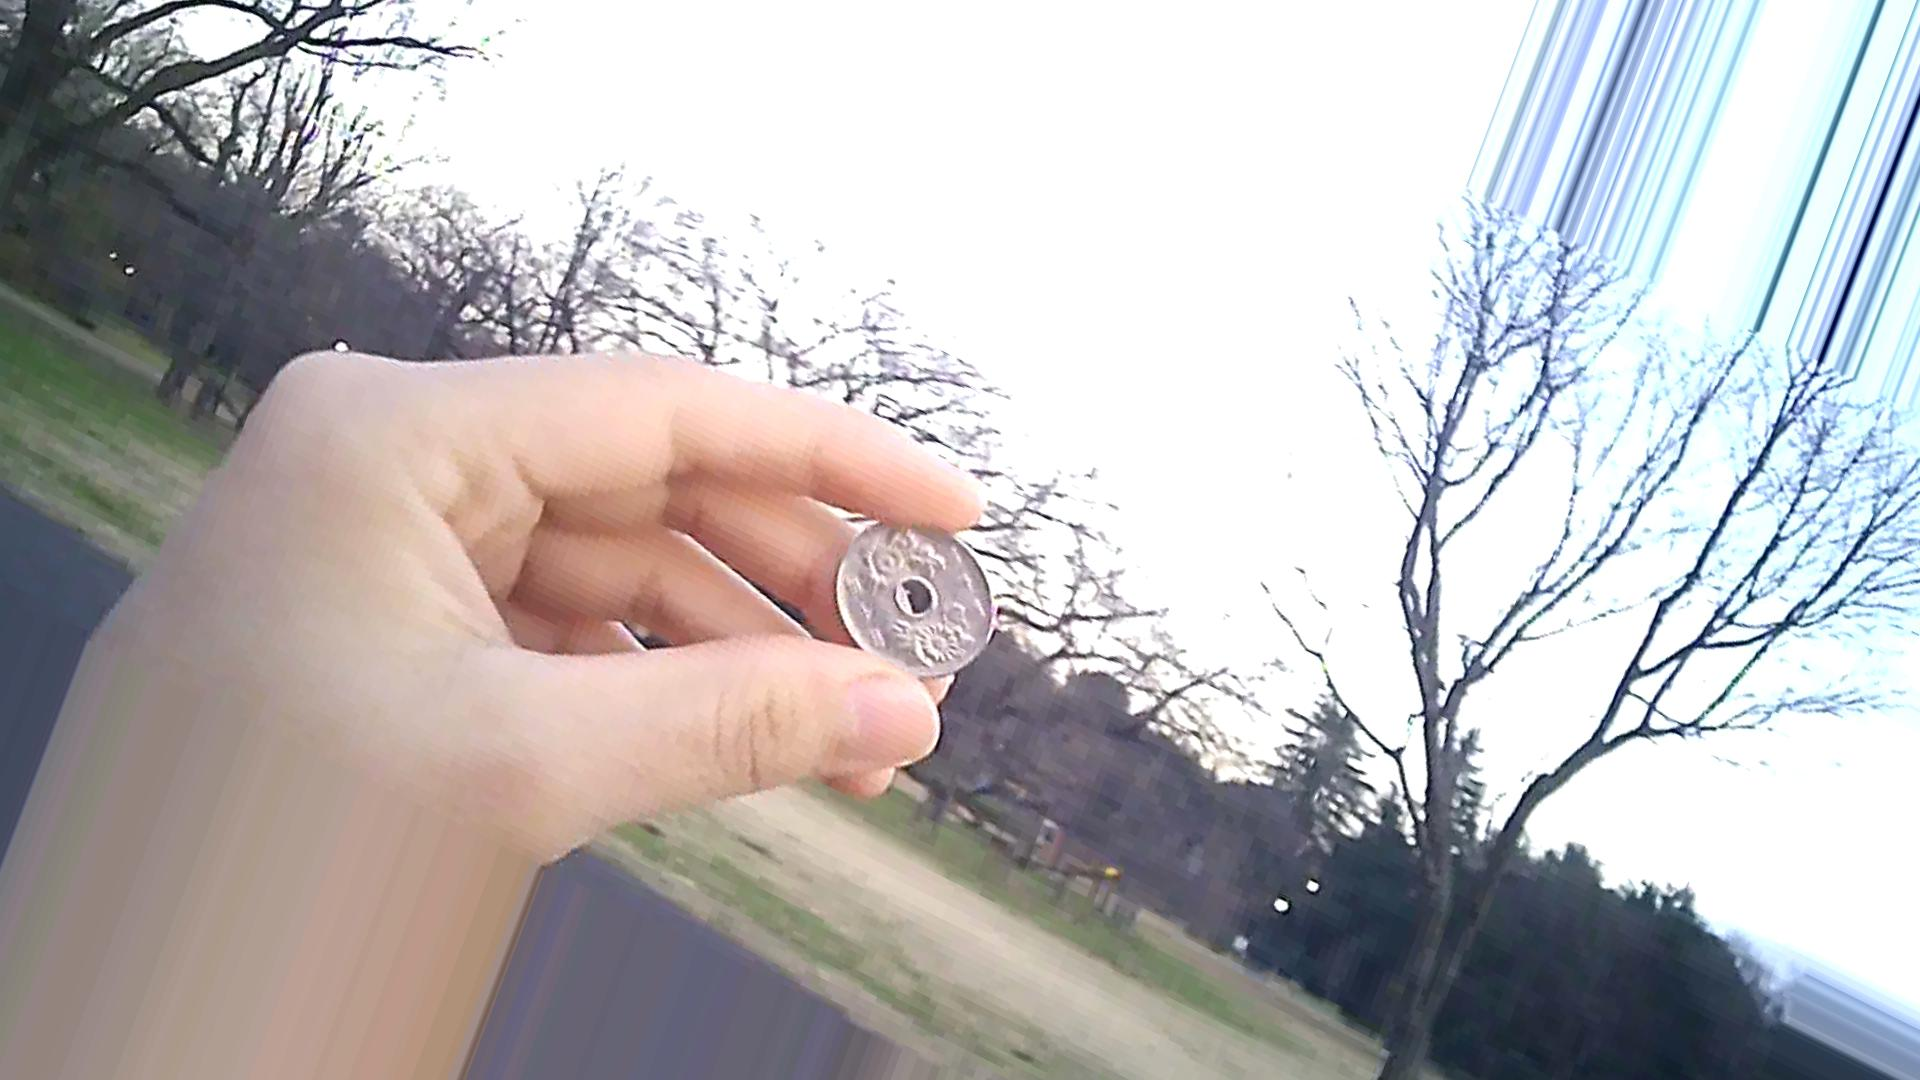50 Yen: (837, 512, 1010, 692)
